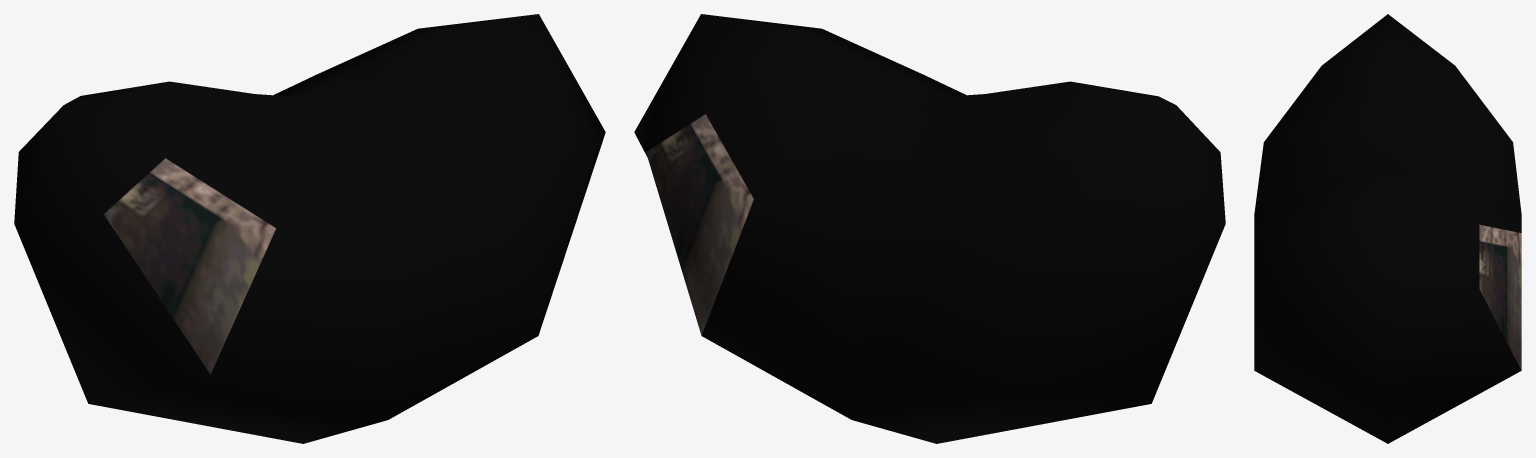
3 renders of one model, left to right at view 1: azimuth 30°, elevation 25°; view 2: azimuth 150°, elevation 25°; view 3: azimuth 270°, elevation 25°, orthographic. The views are drawn at different scales.
Visible parts, largest first — view 1: T1L2M006_0; view 2: T1L2M006_0; view 3: T1L2M006_0.
Boxes of the visible parts, x1,y1,x2,y2 form: T1L2M006_0: [14, 14, 605, 443]; T1L2M006_0: [634, 14, 1225, 443]; T1L2M006_0: [1254, 14, 1521, 443].
Bounding box in the file's own units: 0.5615 × 0.3604 × 0.2793.
